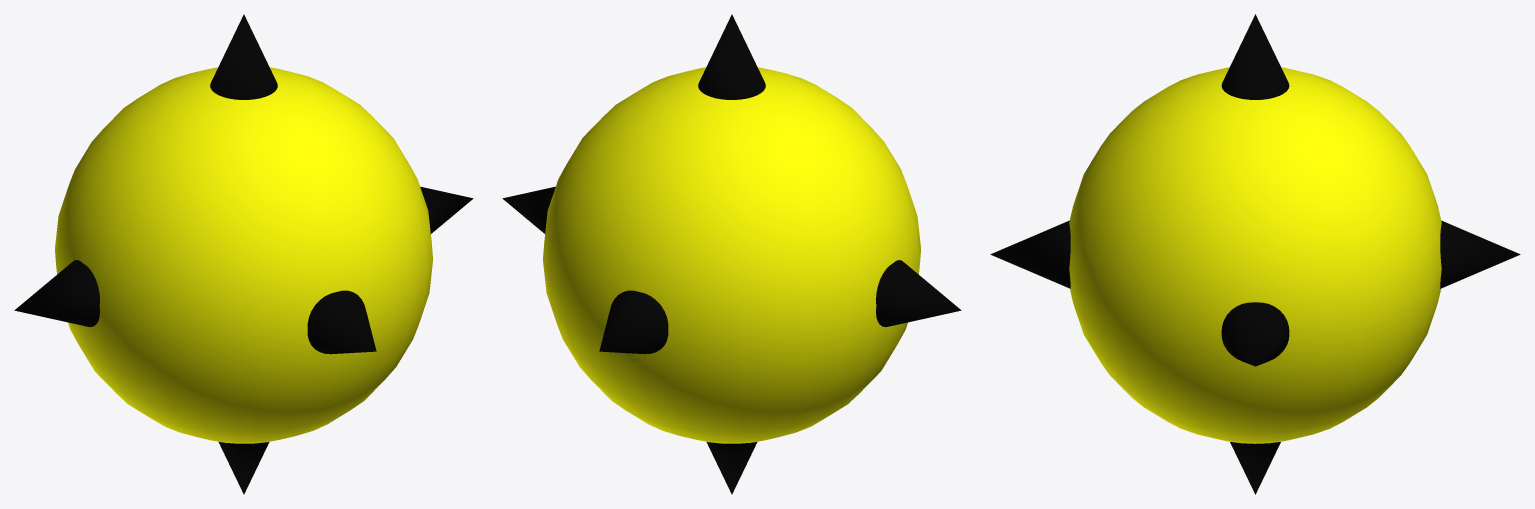
Rendered from granade.glb.
3 views of the same model, side by side, from view 1: azimuth 30°, elevation 25°; view 2: azimuth 150°, elevation 25°; view 3: azimuth 270°, elevation 25° (orthographic).
Visible parts, largest first — view 1: Sphere, Cone.002, Cone.001, Cone, Cone.004, Cone.003; view 2: Sphere, Cone.005, Cone.001, Cone, Cone.004, Cone.003; view 3: Sphere, Cone.003, Cone, Cone.002, Cone.005, Cone.004.
Part boxes in pixels (x1,y1,x2,y2): Sphere: [55, 67, 432, 443]; Cone.002: [307, 290, 376, 354]; Cone.001: [14, 260, 99, 327]; Cone: [210, 14, 277, 99]; Cone.004: [218, 441, 269, 494]; Cone.003: [420, 186, 473, 233]; Sphere: [543, 67, 920, 443]; Cone.005: [599, 290, 668, 354]; Cone.001: [876, 260, 961, 327]; Cone: [698, 14, 765, 99]; Cone.004: [706, 441, 757, 494]; Cone.003: [502, 186, 555, 233]; Sphere: [1069, 67, 1441, 443]; Cone.003: [1221, 302, 1289, 366]; Cone: [1221, 14, 1289, 99]; Cone.002: [990, 220, 1070, 288]; Cone.005: [1440, 220, 1520, 288]; Cone.004: [1230, 442, 1280, 494].
Size of the model in its own units: 2.8 by 2.8 by 2.8.
